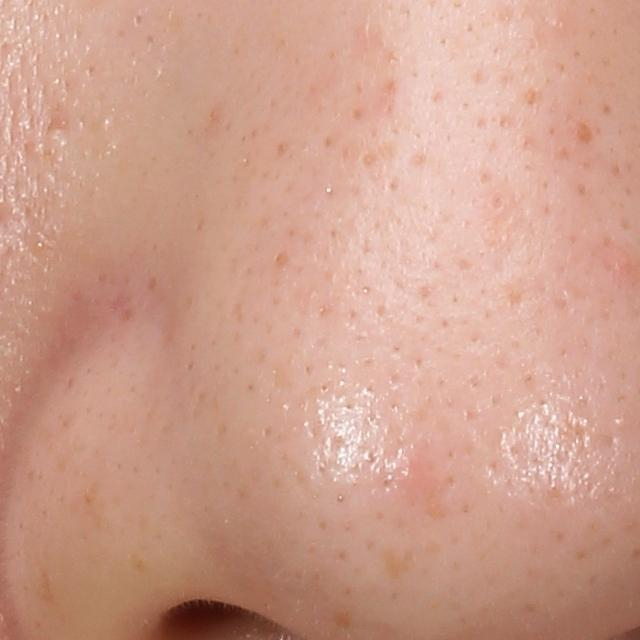melasma: (145, 271, 160, 291)
